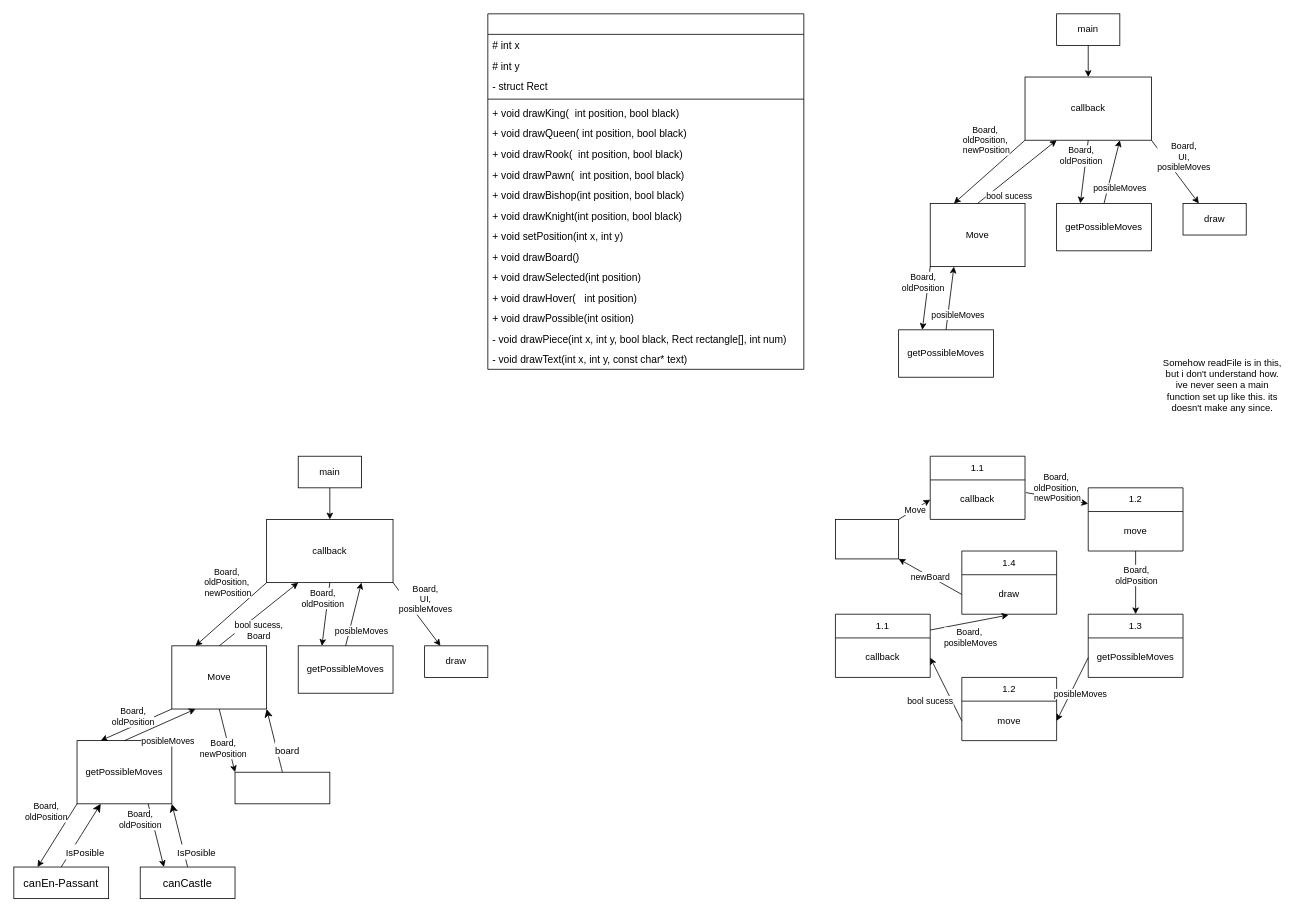
Some shapes in this 1300 by 912 pixel diagram are drawn without their labels. The box of each missing label's shape, as (x1, y1, x2, y2) in pixels:
ogstream: (487, 13, 804, 369)
PawnPromotion: (234, 771, 330, 804)
user: (835, 519, 899, 559)
